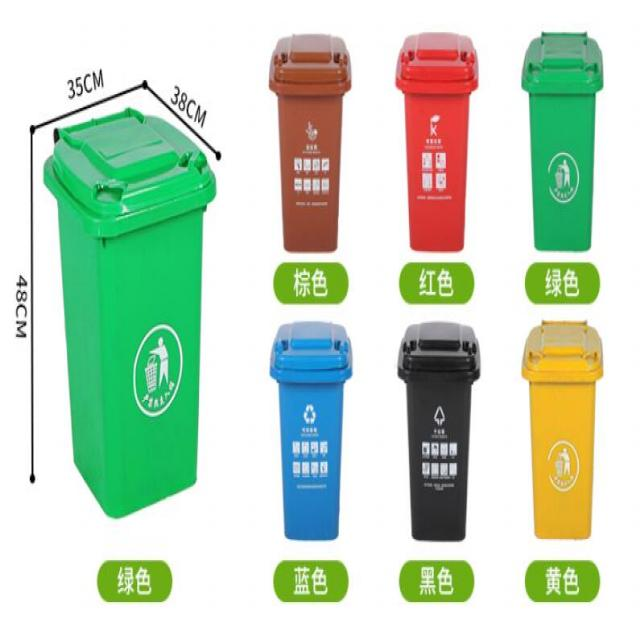ash bin: (41, 106, 213, 516), (267, 318, 354, 540), (396, 28, 481, 253), (519, 27, 605, 247), (266, 29, 352, 247), (398, 318, 480, 540), (522, 314, 602, 538)
